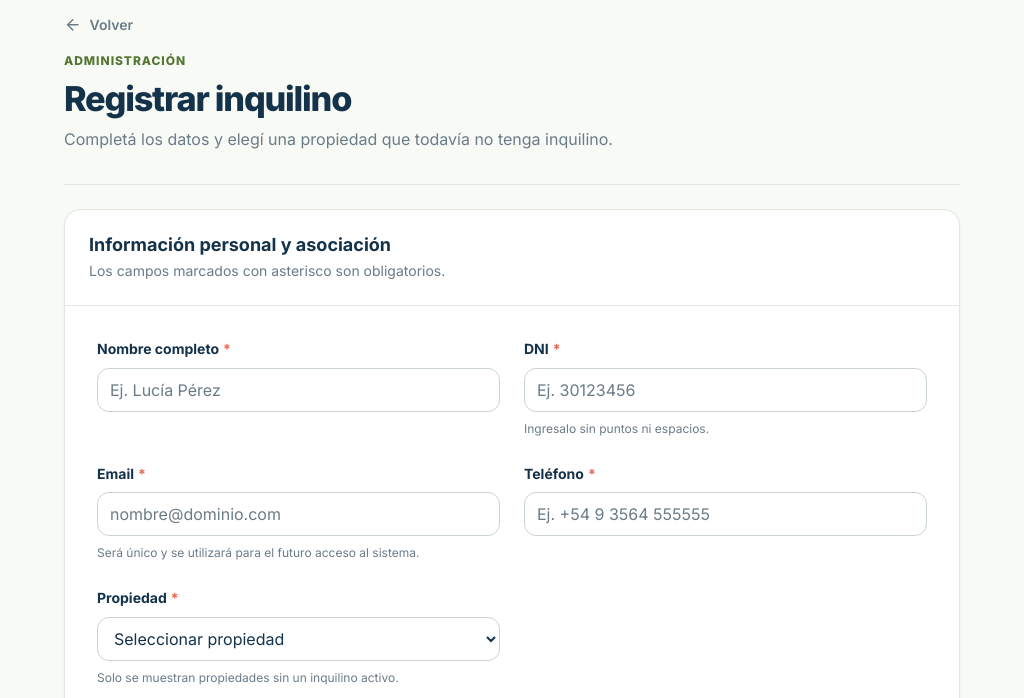
formulario de inquilino › rechaza un DNI ingresado como nombre y no envía el alta
Expected: the dropdown labelled "Propiedad*" is shown, [97,617,500,661]
Type "43428013" into the field labelled "Nombre completo*" at (298, 390), box [97,368,500,412]
(page scrolled)
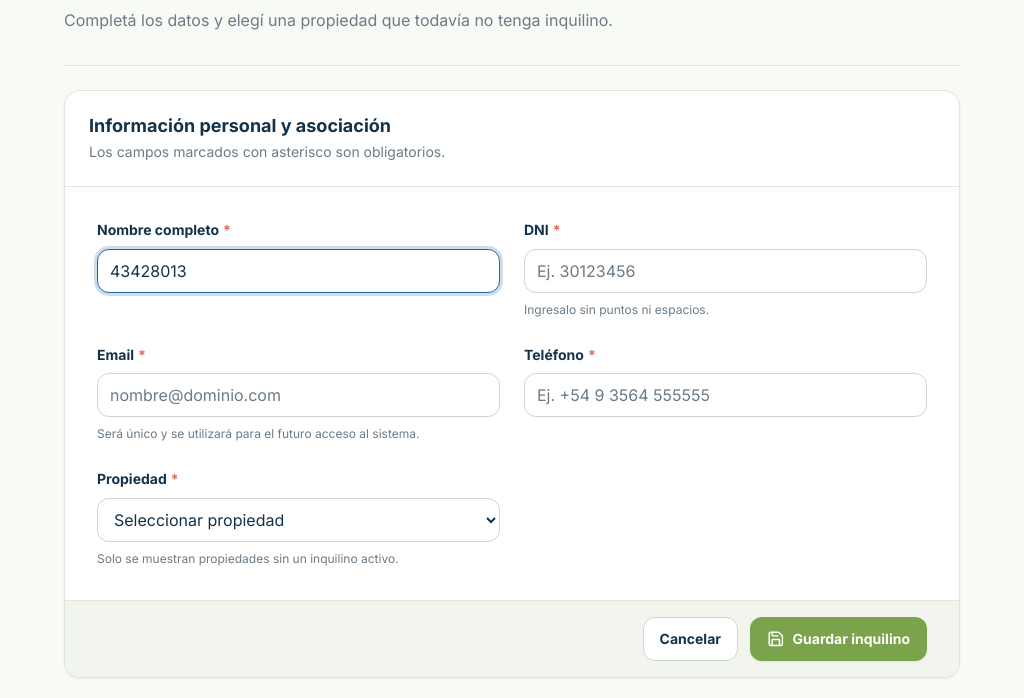
Click the button "Guardar inquilino" at (838, 639), box [750,617,927,661]
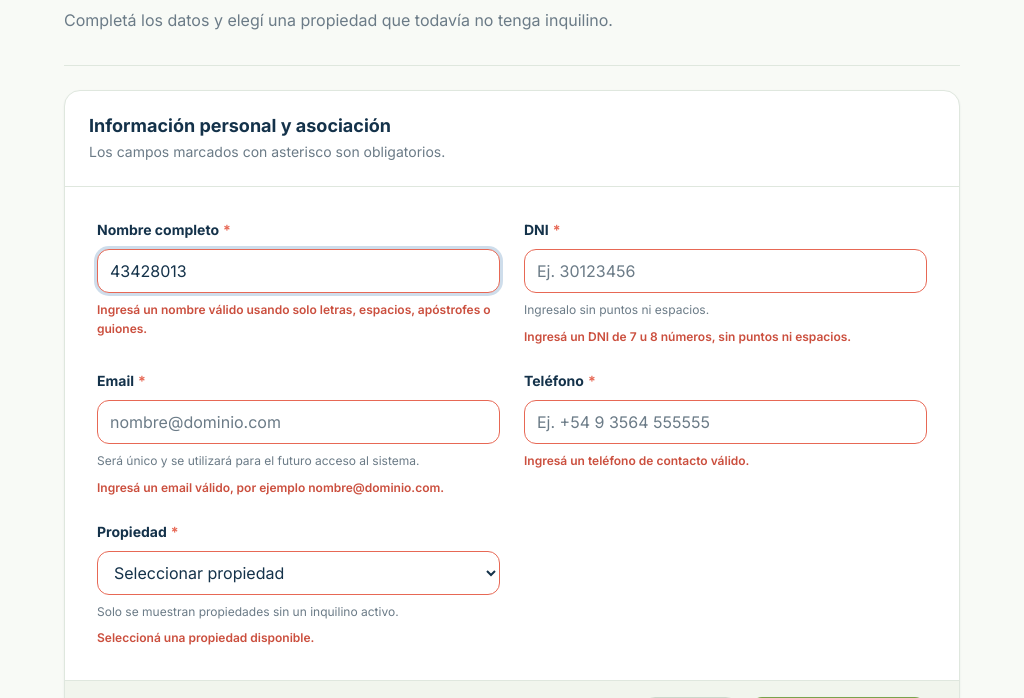
Expected: the text "Ingresá un nombre válido usando solo letras, espacios, apóstrofes o guiones." is shown, [97,301,500,338]
